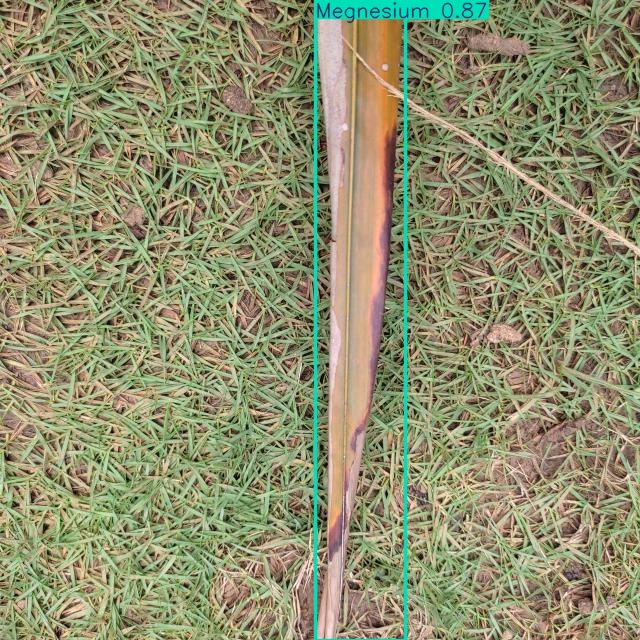Megnesium: (315, 0, 406, 640)
